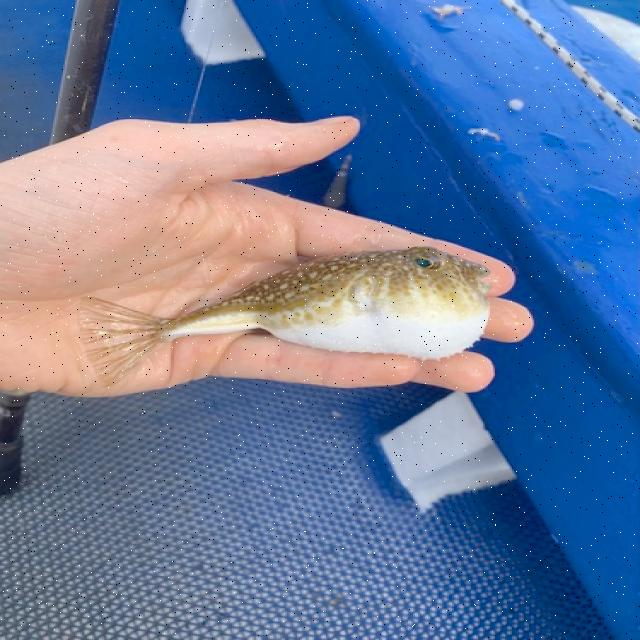Balik: (79, 248, 489, 385)
